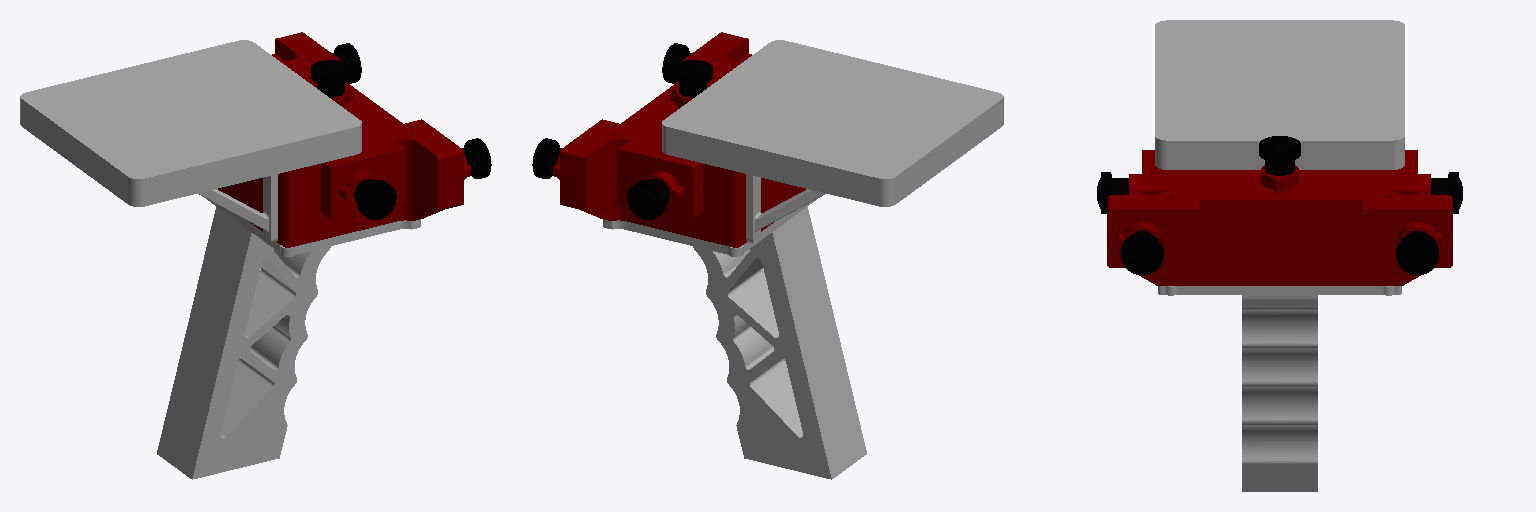
robot.urdf — halo:
<?xml version="1.0" ?>
<!-- =================================================================================== -->
<!-- |    This document was autogenerated by xacro from [local-path]/catkin_ws/src/drs_extra/halo_description/urdf/halo.urdf.xacro | -->
<!-- |    EDITING THIS FILE BY HAND IS NOT RECOMMENDED                                 | -->
<!-- =================================================================================== -->
<robot name="halo">
  <link name="base"/>
  <joint name="base_to_alphasense" type="fixed">
    <origin rpy="0 0 0" xyz="0 0 0"/>
    <parent link="base"/>
    <child link="alphasense_mount"/>
  </joint>
  <link name="alphasense_mount">
    <visual>
      <geometry>
        <mesh filename="package://halo_description/urdf/meshes/alphasense_simplified.dae"/>
      </geometry>
    </visual>
    <!-- TODO fix these inertial stuff -->
    <inertial>
      <origin rpy="0 0 0" xzy="0 0 0"/>
      <mass value="0.5"/>
      <inertia ixx="3.545e-4" ixy="6.051e-10" ixz="-3.736e-7" iyy="3.554e-4" iyz="-2.919e-9" izz="3.627e-4"/>
    </inertial>
  </link>
  <link name="imu_link">
    <visual>
      <geometry>
        <box size="3e-3 2e-3 1e-3"/>
      </geometry>
      <material name="black">
        <color rgba="0 0 0 1"/>
      </material>
    </visual>
  </link>
  <joint name="imu_joint" type="fixed">
    <origin rpy="3.141592653589793 0 0" xyz="6e-3 -8.55e-3 17.4e-3"/>
    <parent link="alphasense_mount"/>
    <child link="imu_link"/>
  </joint>
  <link name="cam_front_left">
    <visual>
      <geometry>
        <box size="1e-3 1e-3 1e-3"/>
      </geometry>
      <material name="black">
        <color rgba="0 0 0 1"/>
      </material>
    </visual>
  </link>
  <link name="cam_front_right">
    <visual>
      <geometry>
        <box size="1e-3 1e-3 1e-3"/>
      </geometry>
      <material name="black">
        <color rgba="0 0 0 1"/>
      </material>
    </visual>
  </link>
  <link name="cam_side_right">
    <visual>
      <geometry>
        <box size="1e-3 1e-3 1e-3"/>
      </geometry>
      <material name="black">
        <color rgba="0 0 0 1"/>
      </material>
    </visual>
  </link>
  <link name="cam_side_left">
    <visual>
      <geometry>
        <box size="1e-3 1e-3 1e-3"/>
      </geometry>
      <material name="black">
        <color rgba="0 0 0 1"/>
      </material>
    </visual>
  </link>
  <!-- front right camera which is cam0 in alphasense driver -->
  <joint name="front_right_cam_joint" type="fixed">
    <origin rpy="1.5708 0.0043 1.5675 " xyz="0.0438 0.0485 -0.0109"/>
    <parent link="imu_link"/>
    <child link="cam_front_right"/>
  </joint>
  <!-- front left camera which is cam1 in alphasense driver -->
  <joint name="front_left_cam_joint" type="fixed">
    <origin rpy=" 1.5715 -0.0042 1.5712 " xyz="0.0437 -0.0611 -0.0115"/>
    <parent link="imu_link"/>
    <child link="cam_front_left"/>
  </joint>
  <!-- top camera which is cam2 in alphasense driver, haven't calibrated yet -->
  <!-- side right camera which is cam3 in alphasense driver -->
  <joint name="side_right_cam_joint" type="fixed">
    <origin rpy="1.5691 -0.0061 3.1334" xyz="-0.006 0.062 -0.0105"/>
    <parent link="imu_link"/>
    <child link="cam_side_right"/>
  </joint>
  <!-- side left camera which is cam4 in alphasense driver -->
  <joint name="side_left_cam_joint" type="fixed">
    <origin rpy="1.5733 0.00443 -0.0052" xyz="-0.00789 -0.07720 -0.01356"/>
    <parent link="imu_link"/>
    <child link="cam_side_left"/>
  </joint>
  <link name="handle">
    <visual>
      <geometry>
        <mesh filename="package://halo_description/urdf/meshes/halo_handle_simplified.dae"/>
      </geometry>
    </visual>
  </link>
  <joint name="handle_to_base_mount" type="fixed">
    <origin rpy="0 0 0" xyz="0 0 0"/>
    <parent link="base"/>
    <child link="handle"/>
  </joint>
  <joint name="base_to_ouster" type="fixed">
    <origin rpy="0 0 0" xyz="-59e-3 0 51e-3"/>
    <parent link="base"/>
    <child link="os_sensor"/>
  </joint>
  <link name="os_sensor">
    <visual>
      <origin rpy="1.5707963267948966 0 1.5707963267948966" xyz="0 0 0"/>
      <geometry>
        <!--cylinder radius="0.04350" length="0.07350" /-->
        <mesh filename="package://ouster_description/urdf/meshes/os1_mesh.dae"/>
      </geometry>
    </visual>
    <inertial>
      <!-- CoM taken from CAD assuming constant density and mass 0.479 (best approximation available to real mass) -->
      <origin rpy="0 0 0" xyz="-0.03775e-3 -2.161e-7 31.329e-3"/>
      <!-- mass taken from Ouster datasheet -->
      <mass value="0.455"/>
      <!-- Inertia tensor from CAD assuming constant density and mass 0.479 (best approximation vailable to real mass) -->
      <inertia ixx="3.545e-4" ixy="6.051e-10" ixz="-3.736e-7" iyy="3.554e-4" iyz="-2.919e-9" izz="3.627e-4"/>
    </inertial>
    <collision>
      <origin xyz="0 0 0.03675"/>
      <geometry>
        <cylinder length="0.07350" radius="0.04350"/>
      </geometry>
    </collision>
  </link>
</robot>

--- Facts derived from the render (not from the file) ---
3 views of the same robot in one strip: view 1: azimuth 30°, elevation 25°; view 2: azimuth 150°, elevation 25°; view 3: azimuth 270°, elevation 25° (orthographic).
Robot: halo — 9 links, 8 joints (8 fixed); root link base; default pose: all joints at 0.
Visible links, largest first — view 1: handle, alphasense_mount; view 2: handle, alphasense_mount; view 3: handle, alphasense_mount.
Link boxes in pixels (x1,y1,x2,y2): handle: (20, 40, 420, 479); alphasense_mount: (218, 32, 491, 247); handle: (603, 40, 1003, 479); alphasense_mount: (532, 32, 805, 247); handle: (1155, 20, 1404, 491); alphasense_mount: (1097, 136, 1462, 285).
Size in the robot's own frame: 0.1687 by 0.1465 by 0.1702 metres.
2 mesh visuals loaded from 3 distinct referenced files (2 Collada DAE); not drawn: 1 (reference not matched to a file when rendering).